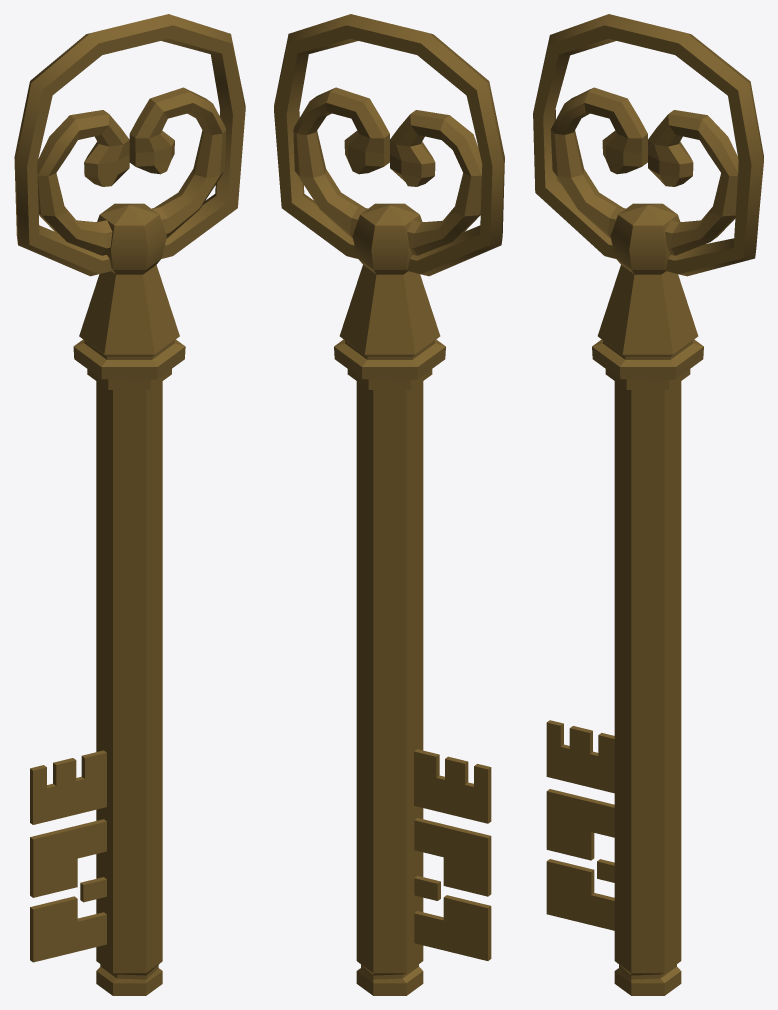
The model's file is key.glb.
The picture shows the model from 3 angles, left to right: view 1: azimuth 30°, elevation 25°; view 2: azimuth 150°, elevation 25°; view 3: azimuth 330°, elevation 25°; orthographic projection.
Parts seen in each view (by area): view 1: Key_Body, Key_Ring, Key_Heart, Key_Hilt, Key_Lock1, Key_Lock7, Key_Lock2, Key_HiltSphere, Key_Lock3; view 2: Key_Body, Key_Ring, Key_Heart, Key_Hilt, Key_Lock1, Key_Lock7, Key_Lock2, Key_HiltSphere, Key_Lock3; view 3: Key_Body, Key_Ring, Key_Heart, Key_Hilt, Key_Lock1, Key_Lock7, Key_HiltSphere, Key_Lock2.
Part boxes in pixels (x1,y1,x2,y2): Key_Body: (96,381,162,995); Key_Ring: (14,14,245,276); Key_Heart: (37,87,225,255); Key_Hilt: (73,265,185,389); Key_Lock1: (30,750,106,824); Key_Lock7: (30,819,106,897); Key_Lock2: (30,896,106,962); Key_HiltSphere: (97,203,166,274); Key_Lock3: (80,877,106,902); Key_Body: (356,381,423,995); Key_Ring: (274,14,504,276); Key_Heart: (293,87,482,255); Key_Hilt: (334,265,445,389); Key_Lock1: (414,749,491,823); Key_Lock7: (414,818,491,896); Key_Lock2: (414,895,491,960); Key_HiltSphere: (352,203,422,274); Key_Lock3: (414,876,440,900); Key_Body: (614,381,681,995); Key_Ring: (533,14,763,276); Key_Heart: (550,87,738,255); Key_Hilt: (592,265,703,389); Key_Lock1: (546,720,614,793); Key_Lock7: (546,789,614,860); Key_HiltSphere: (610,203,680,274); Key_Lock2: (546,859,614,930).
Bounding box in the file's own units: 0.0149 × 0.0599 × 0.0063.
